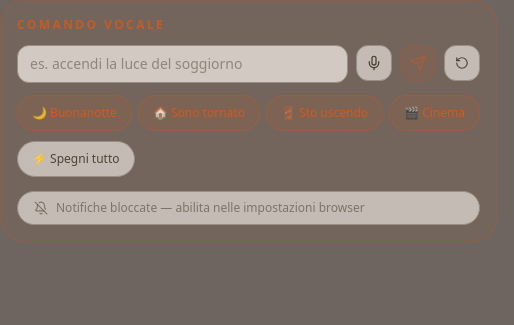
Test: NLCommandBar — risposte a pulsanti › una proposta offre Sì / No, non «Esegui», e non fa partire nessun comando
Type "accendi la luce della cucina" into the field with placeholder "es. accendi la luce del soggiorno" at (182,64), box [17,45,348,83]
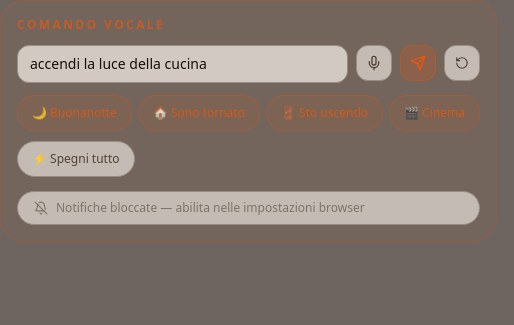
Click the 2nd button at (418,63), box [400,45,436,81]
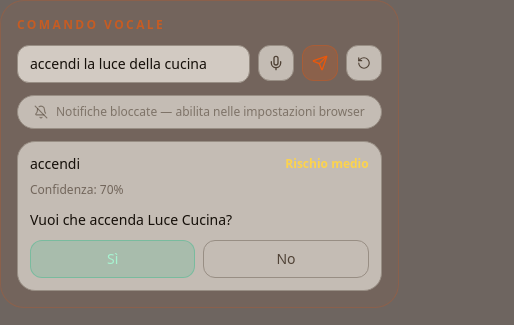
Check: the button "No" is shown, box [203,240,369,278]
Check: the button "Sì" is shown, box [30,240,195,278]
Check: the text "Vuoi che accenda Luce Cucina?" is shown, box [30,210,232,229]
